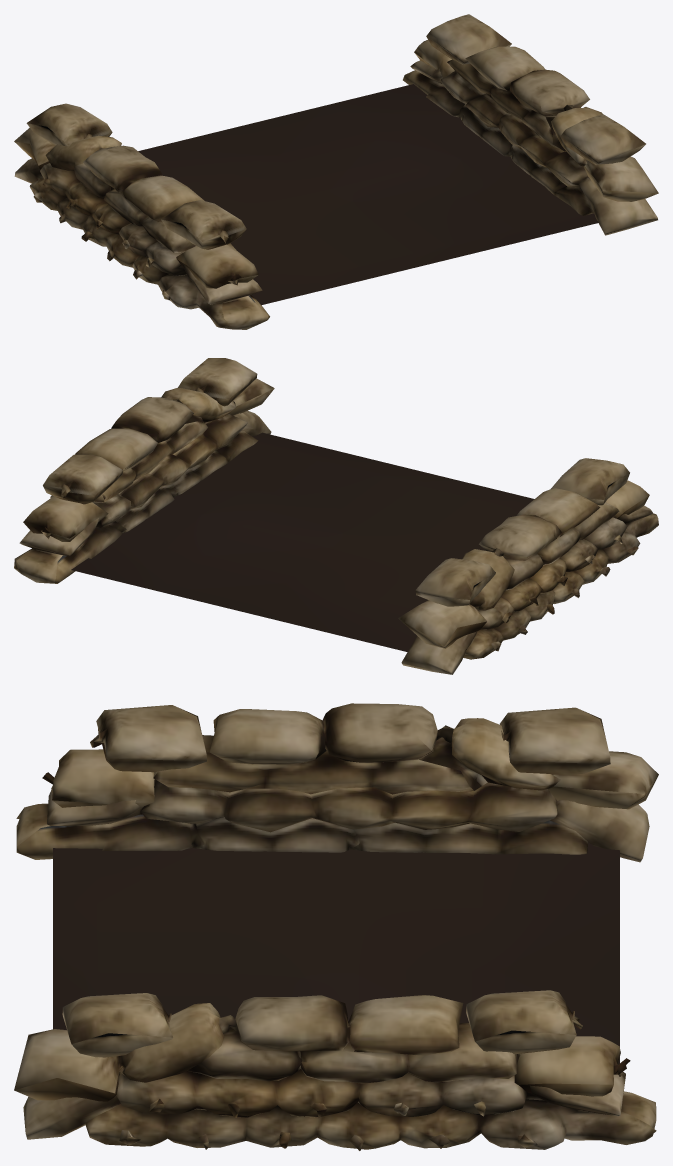
The picture shows the model from 3 angles, top to bottom: view 1: azimuth 30°, elevation 25°; view 2: azimuth 150°, elevation 25°; view 3: azimuth 270°, elevation 25°; orthographic projection. The views are drawn at different scales.
Visible parts, largest first — view 1: Plane.001, sandbags_01, sandbags_01.003; view 2: Plane.001, sandbags_01, sandbags_01.003; view 3: Plane.001, sandbags_01.003, sandbags_01.
Part boxes in pixels (<box>): Plane.001: <box>138,84,598,305</box>; sandbags_01: <box>14,103,269,329</box>; sandbags_01.003: <box>403,14,658,235</box>; Plane.001: <box>71,432,534,651</box>; sandbags_01: <box>398,458,658,674</box>; sandbags_01.003: <box>14,358,274,583</box>; Plane.001: <box>53,842,619,1064</box>; sandbags_01.003: <box>14,990,656,1150</box>; sandbags_01: <box>16,703,658,862</box>.
Size of the model in its own units: 6.34 by 1.15 by 4.94.
